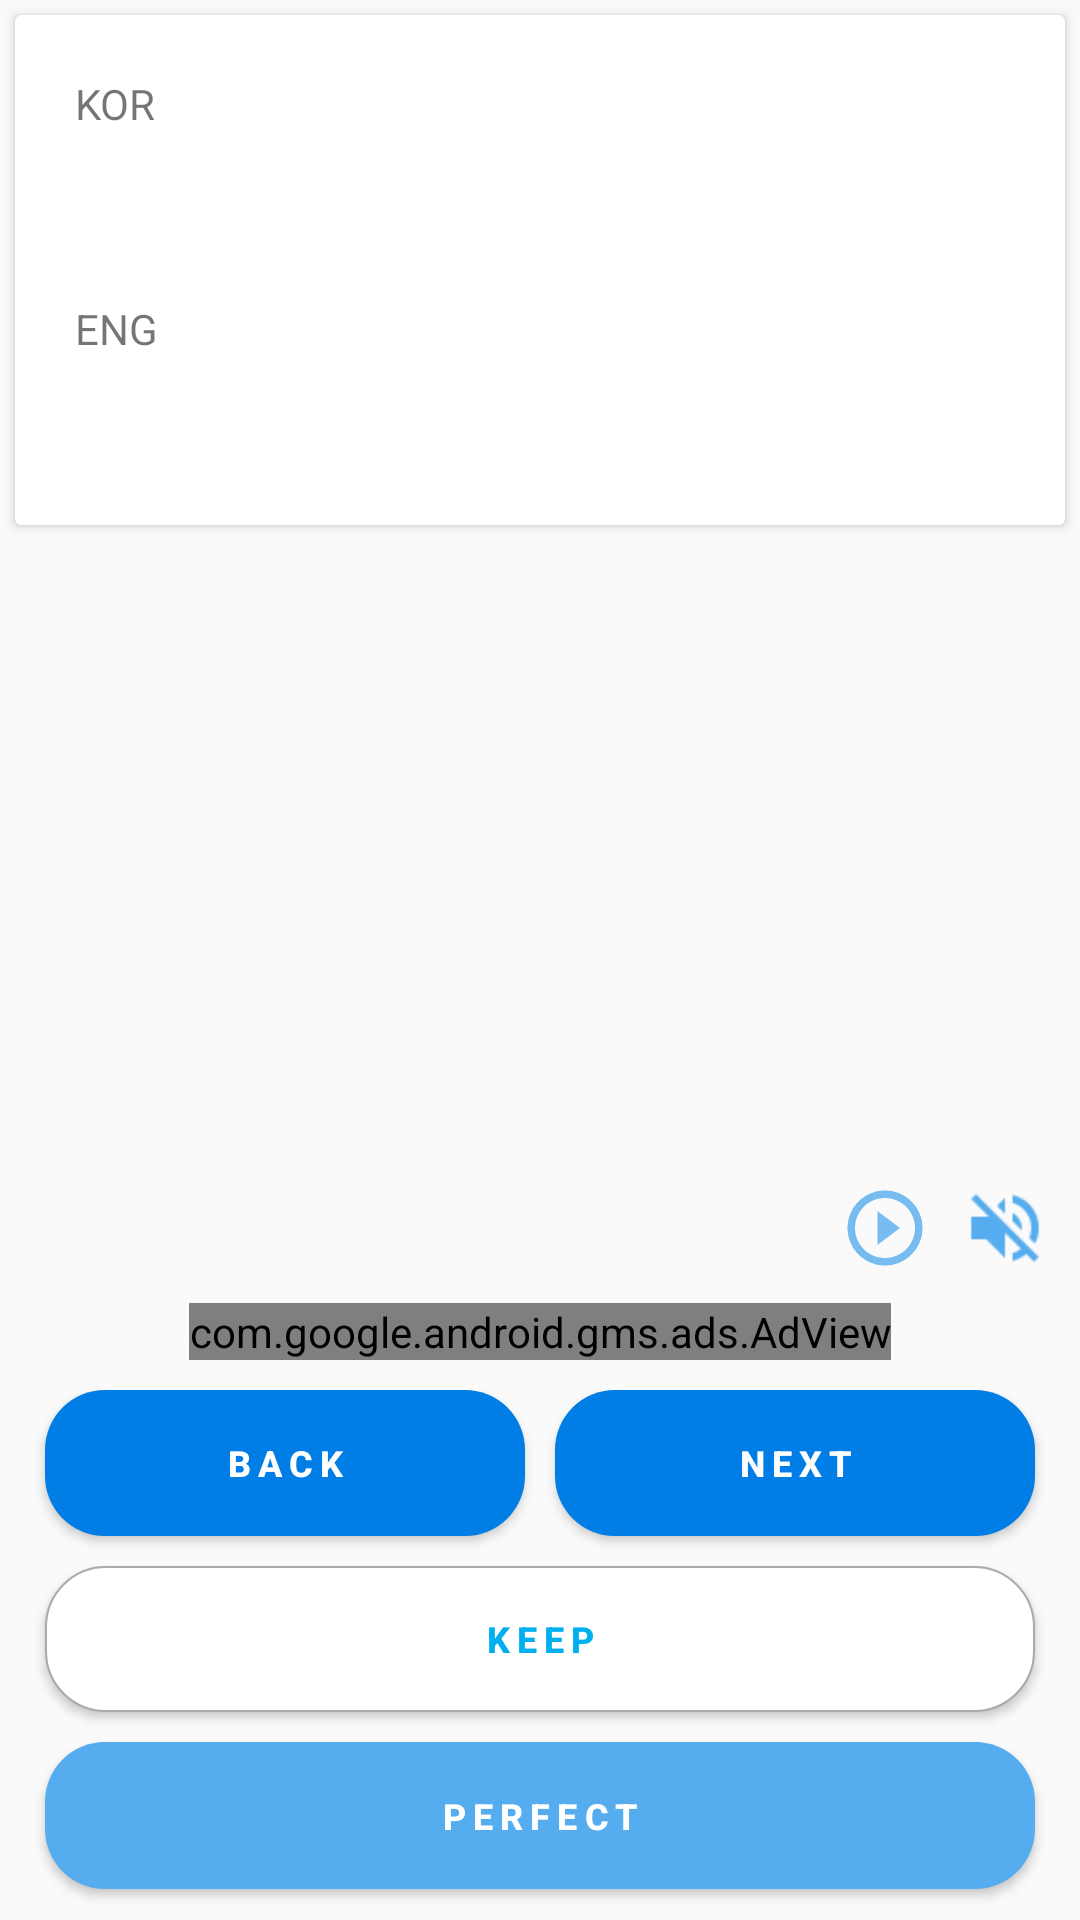

Where to tap for icons on this 1080*1920 app screen, as [x,y]:
volume off: [1005,1228]
